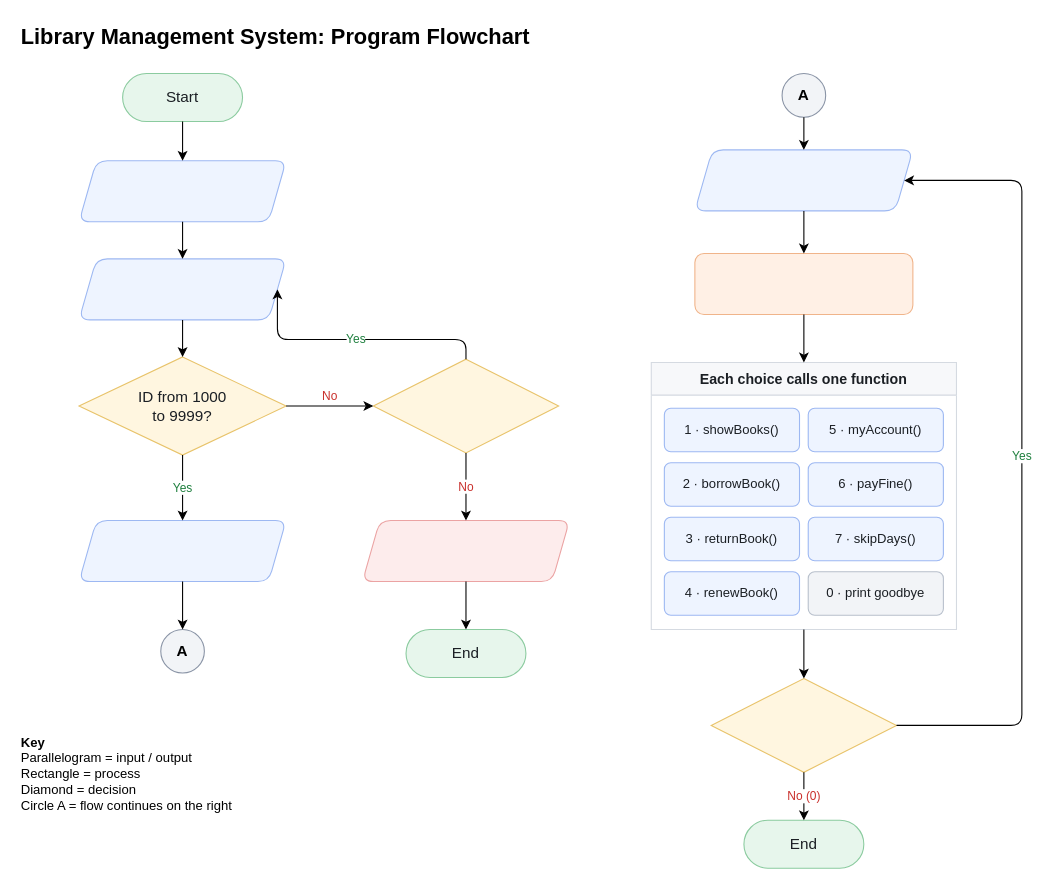
This 1050x887 diagram has some shape labels left out. Here are the shapes that lost their labels. From the top down, the centre of each, then its label:
point (182, 191): Show welcome message Read name, tries = 0
point (803, 180): Show menu (Day N) Read choice 0 to 7
point (182, 289): Read member ID tries = tries + 1
point (803, 283): switch (choice) runs the matching function
point (465, 405): tries < 3?
point (182, 550): Print hello message
point (465, 550): Print: Too many wrong tries
point (803, 724): choice != 0?
